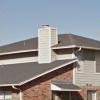Chimney: (32, 14, 57, 66)
